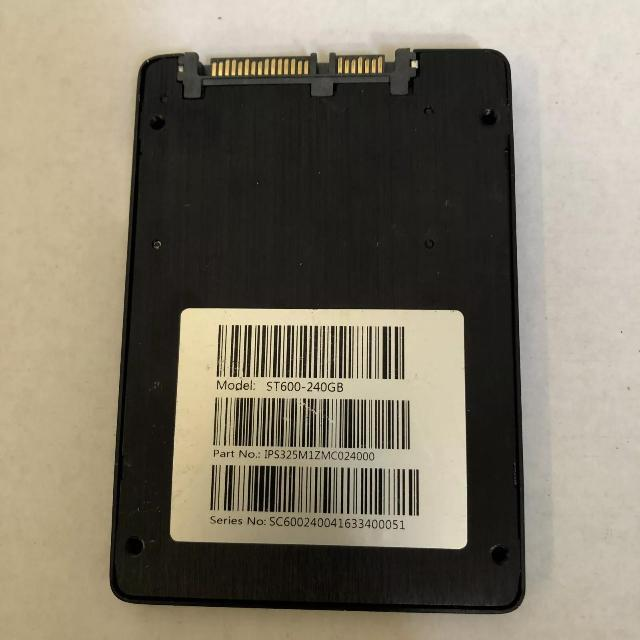DISK: (106, 45, 529, 618)
